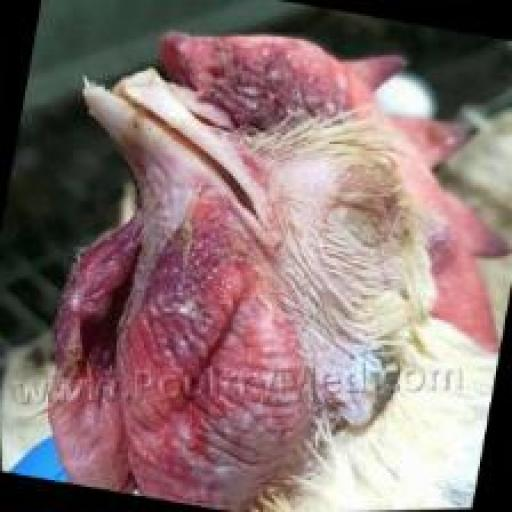disease: (297, 127, 416, 281)
